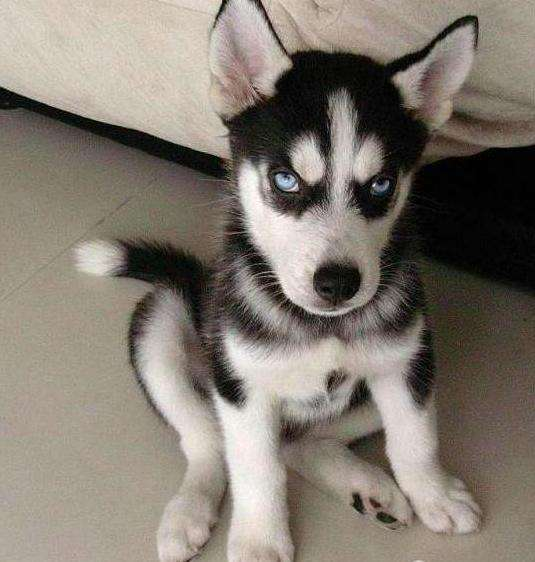dog: (126, 1, 487, 562)
